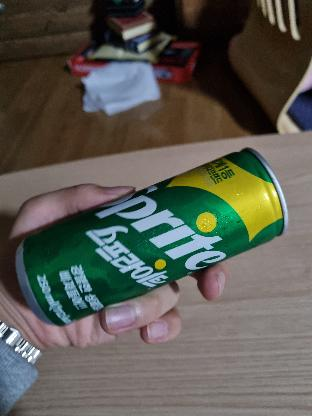Can: (29, 142, 294, 332)
